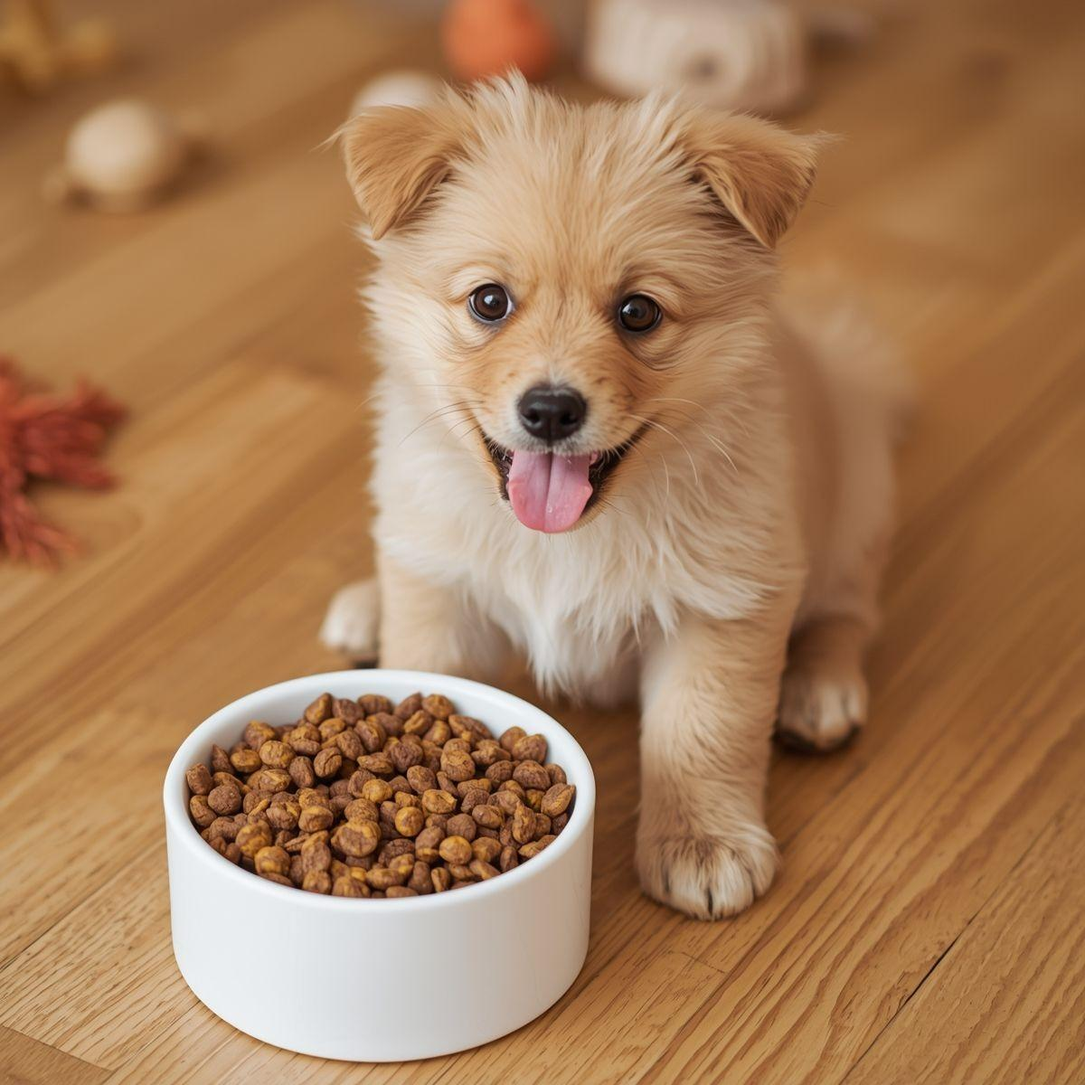puppy-dog: (314, 69, 912, 922)
